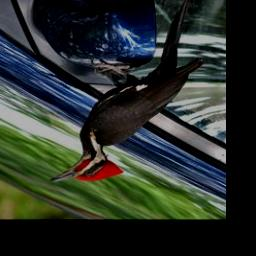Woodpecker: (46, 0, 206, 184)
